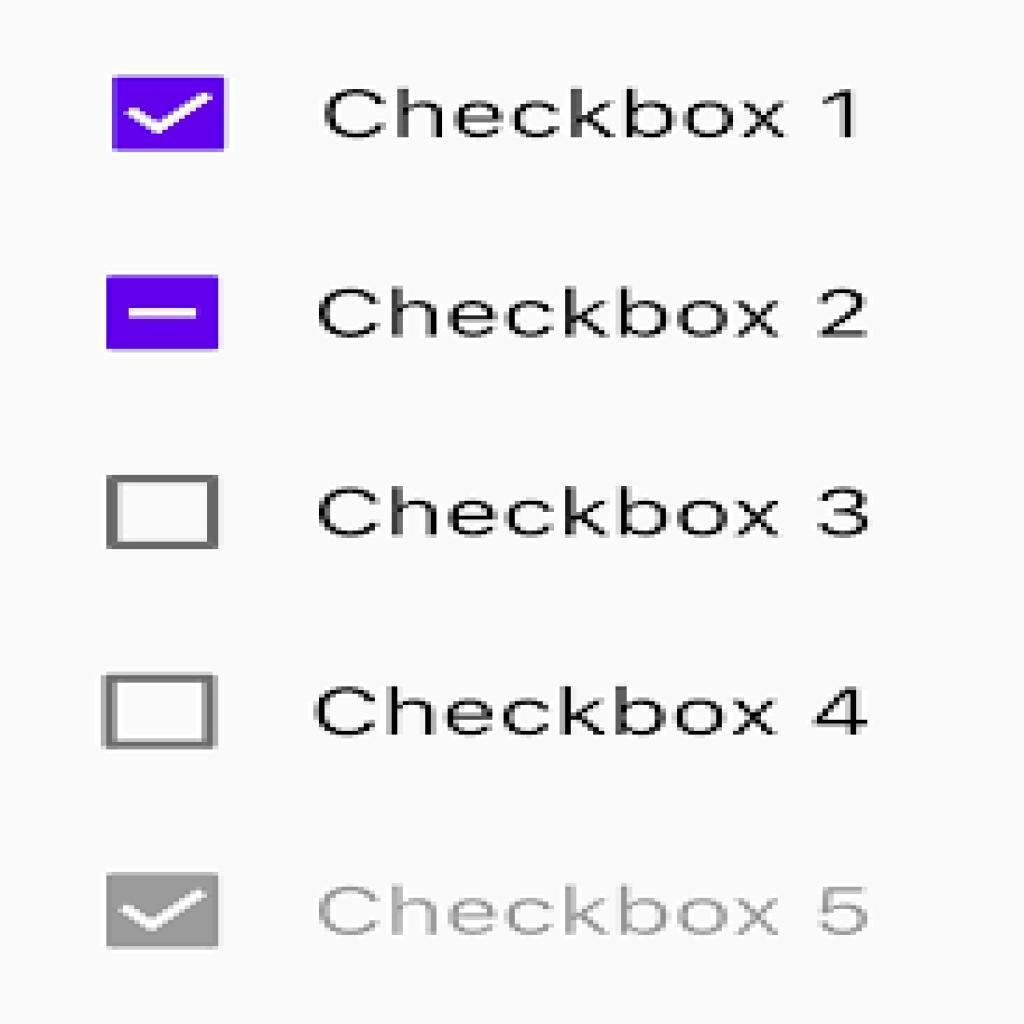checkbox: (102, 673, 218, 751), (115, 77, 227, 153), (107, 475, 220, 550), (106, 875, 220, 949), (107, 276, 219, 351)
label: (316, 271, 882, 355), (316, 73, 867, 157), (308, 672, 895, 747), (310, 472, 878, 549), (312, 875, 877, 951)
